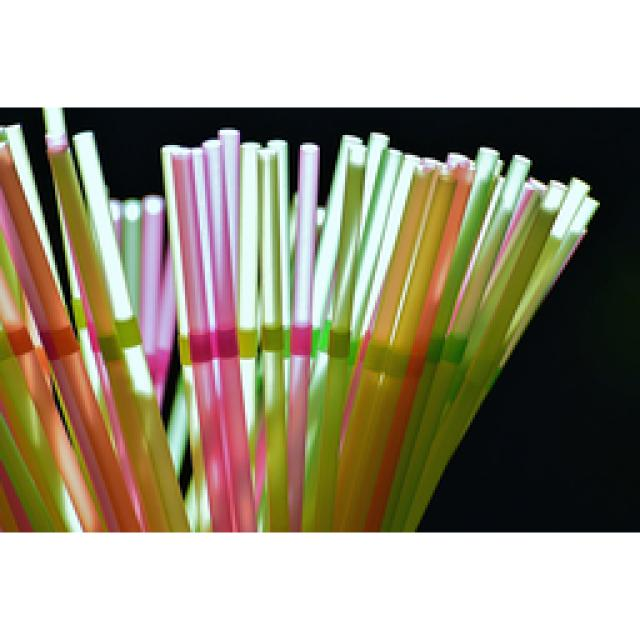plastic: (160, 130, 598, 530), (0, 108, 188, 530)
